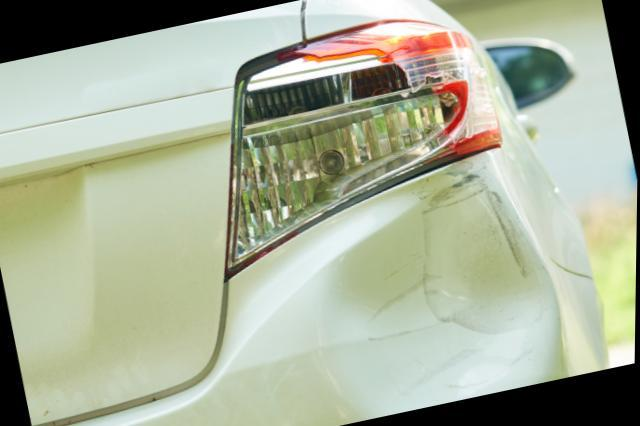dent: (321, 171, 560, 420)
lamp broken: (224, 20, 502, 284)
